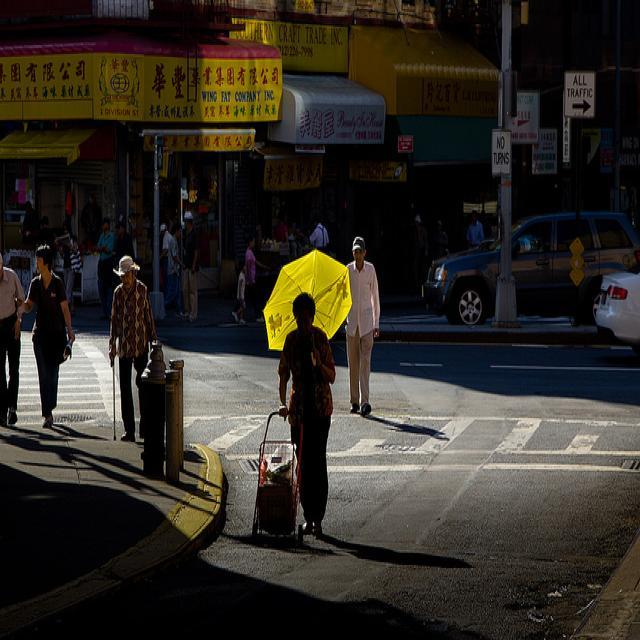fire_hydrant: (139, 338, 166, 482)
